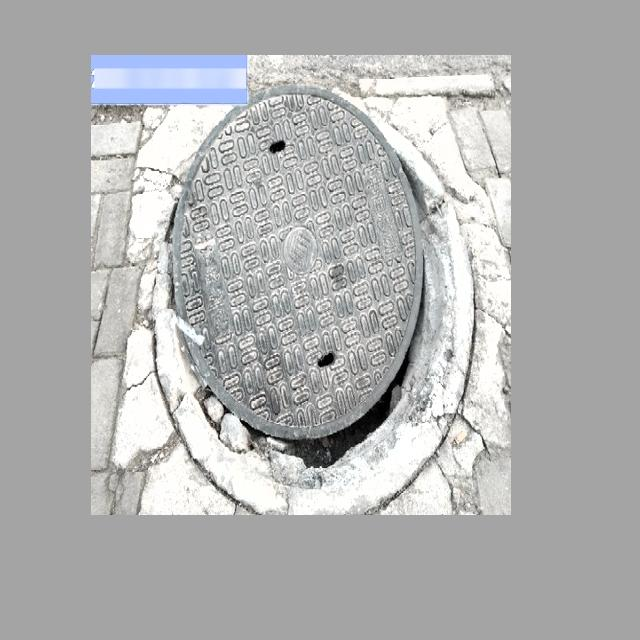uncovered: (156, 85, 455, 488)
